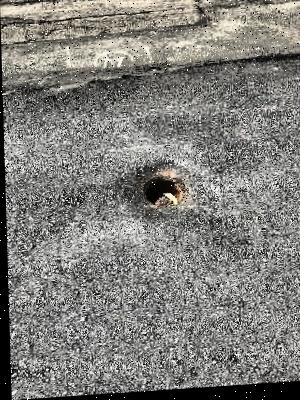pothole: (133, 158, 198, 220)
